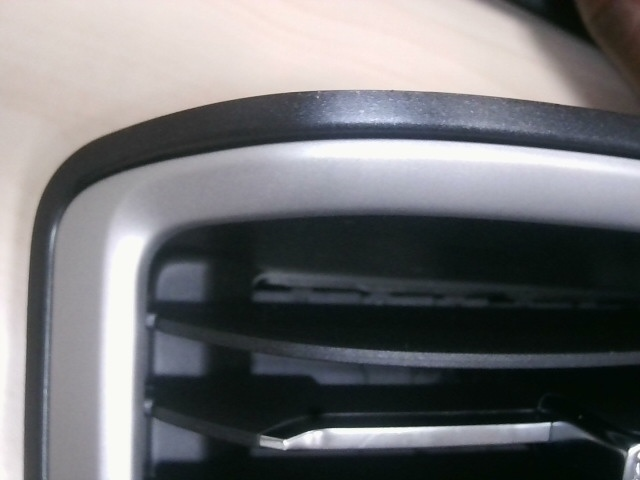NG: (298, 83, 341, 117)
